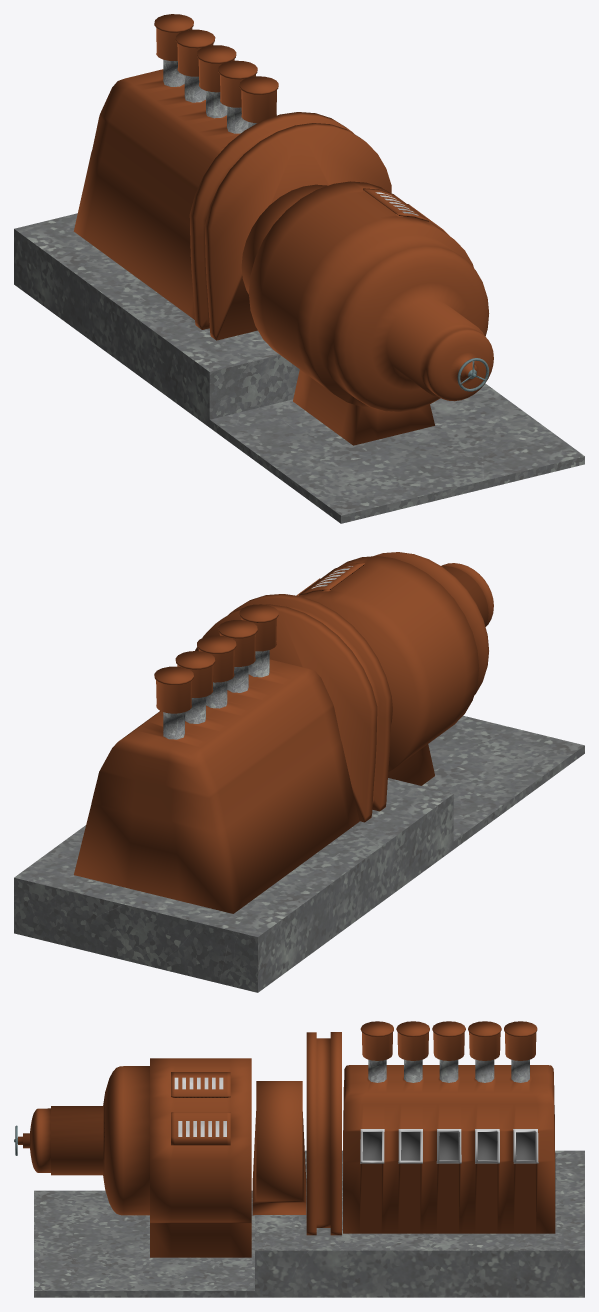
Rendered from gerador3.fbx.
The picture shows the model from 3 angles, top to bottom: view 1: azimuth 30°, elevation 25°; view 2: azimuth 150°, elevation 25°; view 3: azimuth 270°, elevation 25°; orthographic projection. The views are drawn at different scales.
Parts seen in each view (by area): view 1: gerador3; view 2: gerador3; view 3: gerador3.
Boxes of the visible parts, x1,y1,x2,y2 form: gerador3: [14, 14, 584, 523]; gerador3: [14, 552, 584, 992]; gerador3: [14, 1021, 584, 1297].
Bounding box in the file's own units: 200 × 204 × 481.
